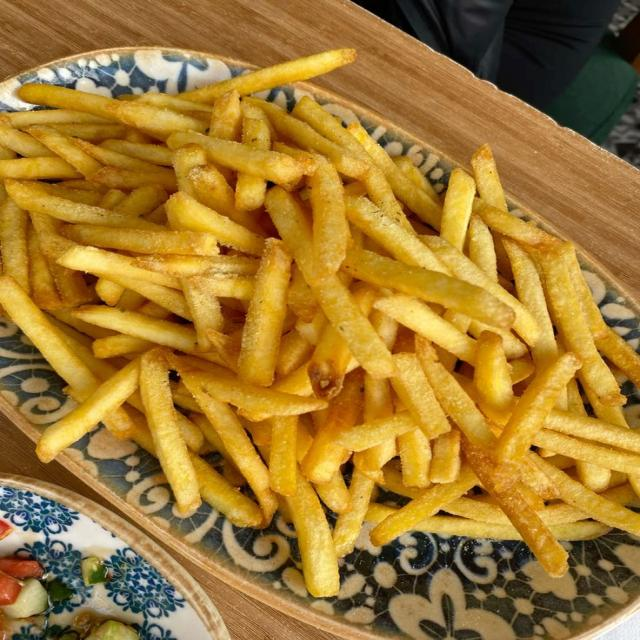potato fries: (0, 50, 639, 596)
